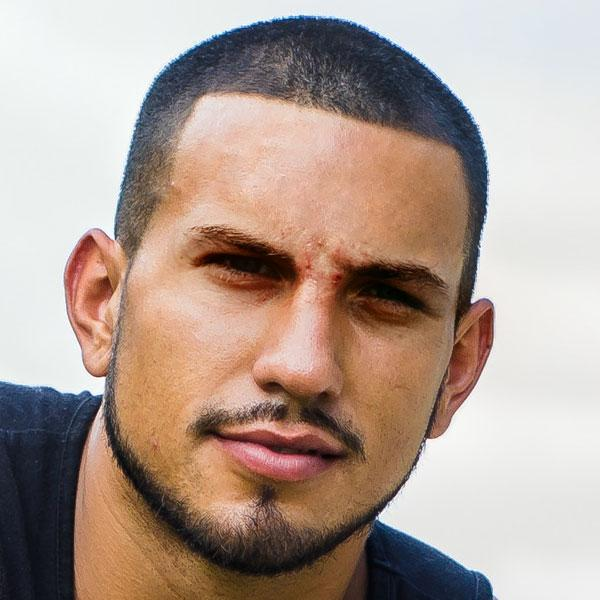Eyes: (183, 232, 289, 298), (347, 267, 434, 329)
